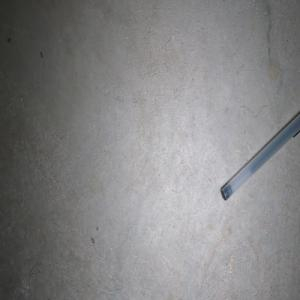Pen: (220, 113, 300, 200)
